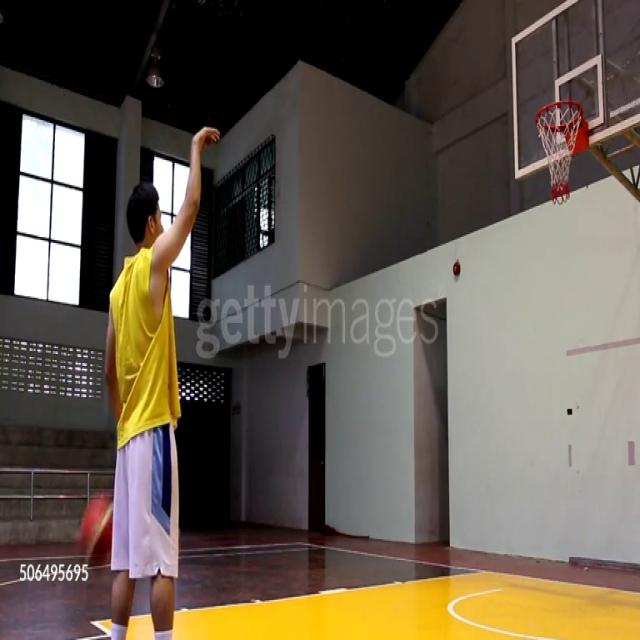ball: (80, 497, 116, 568)
